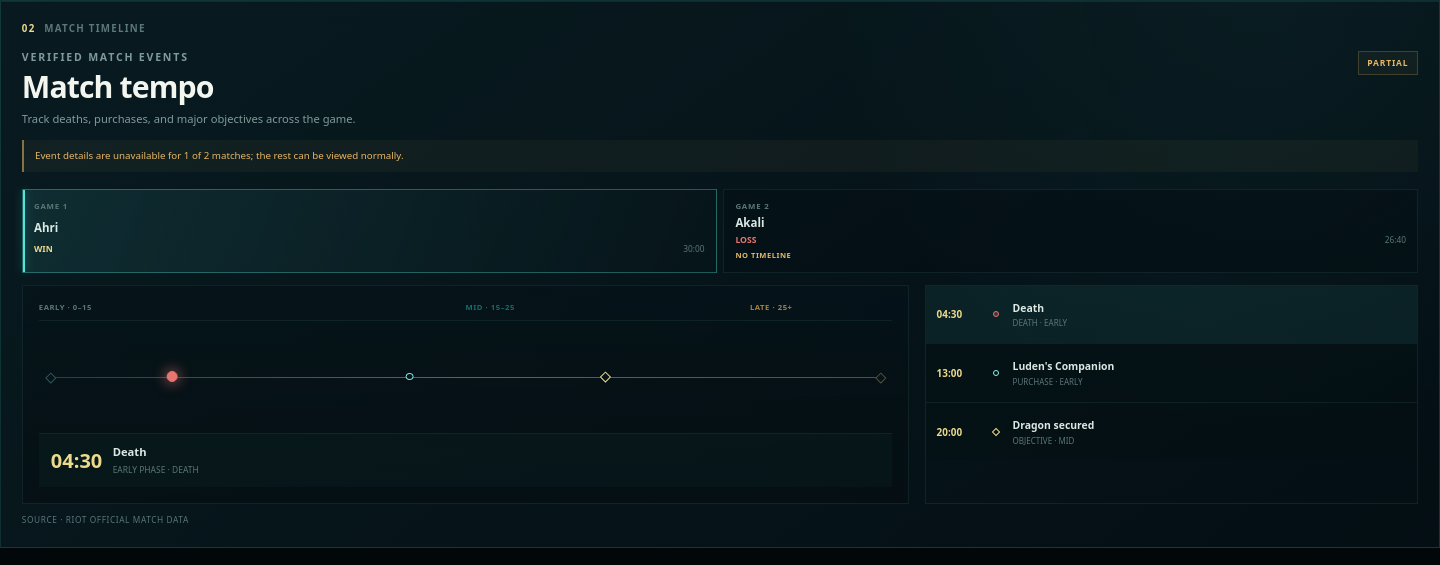
Test: TimelinePanel › keeps unavailable missing instead of turning it into zero events
The width and height of the screenshot is (1440, 565).
Click the button "GAME 2 Akali Loss 26:40 NO TIMELINE" at x=752, y=206, box x1=723 y1=190 x2=1418 y2=273
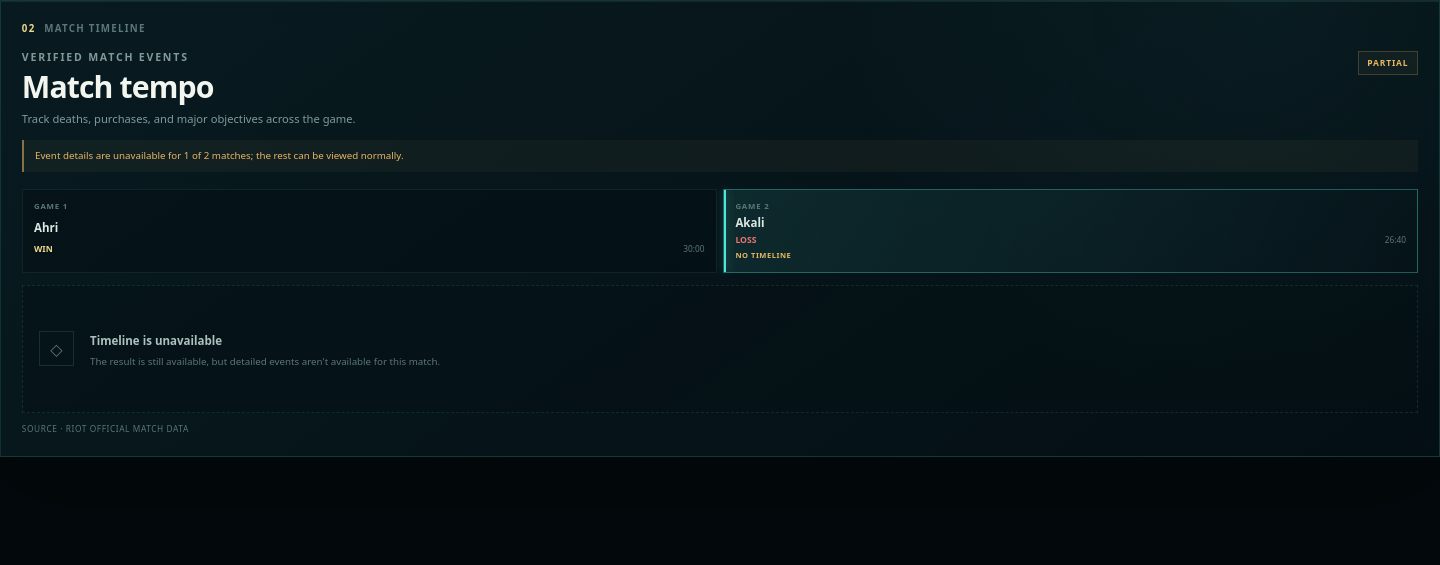
Check: the message shows "Timeline is unavailable", box x1=90 y1=333 x2=222 y2=348
